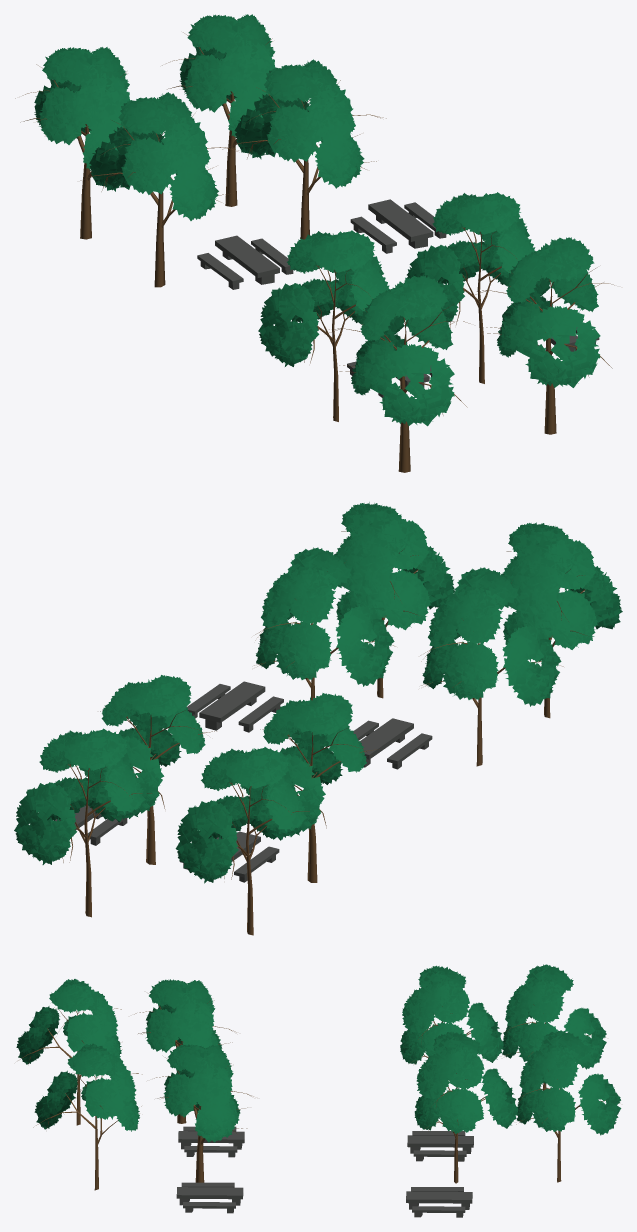
The model's file is SC_Benches_Trees_FIN.glb.
The picture shows the model from 3 angles, top to bottom: view 1: azimuth 30°, elevation 25°; view 2: azimuth 150°, elevation 25°; view 3: azimuth 270°, elevation 25°; orthographic projection. The views are drawn at different scales.
Visible parts, largest first — view 1: Leaves_1, Leaves_1.001, Leaves_1.006, Leaves_1.002, Leaves_1.004, Leaves_1.003, Leaves_1.005, Trunk_0.001, Cube.011, Cube.015, Trunk_0.004, Trunk_0 (+6 smaller); view 2: Leaves_1, Leaves_1.006, Leaves_1.001, Leaves_1.005, Leaves_1.003, Leaves_1.002, Leaves_1.004, Cube.002, Cube.007, Trunk_0.005, Trunk_0.003, Trunk_0.002 (+3 smaller); view 3: Leaves_1, Leaves_1.002, Leaves_1.003, Leaves_1.004, Leaves_1.005, Leaves_1.001, Leaves_1.006, Cube.011, Trunk_0.001, Cube.002, Cube.015, Cube.007 (+5 smaller).
Part boxes in pixels (x1=…): Leaves_1: x1=258, y1=192, x2=535, y2=366; Leaves_1.001: x1=497, y1=237, x2=600, y2=387; Leaves_1.006: x1=351, y1=275, x2=454, y2=426; Leaves_1.002: x1=234, y1=59, x2=364, y2=188; Leaves_1.004: x1=89, y1=92, x2=218, y2=220; Leaves_1.003: x1=179, y1=14, x2=275, y2=136; Leaves_1.005: x1=34, y1=47, x2=129, y2=171; Trunk_0.001: x1=328, y1=267, x2=614, y2=472; Cube.011: x1=368, y1=199, x2=433, y2=248; Cube.015: x1=215, y1=235, x2=279, y2=284; Trunk_0.004: x1=80, y1=114, x2=238, y2=287; Trunk_0: x1=450, y1=227, x2=516, y2=383; Leaves_1: x1=256, y1=547, x2=561, y2=706; Leaves_1.006: x1=501, y1=522, x2=622, y2=649; Leaves_1.001: x1=334, y1=502, x2=454, y2=630; Leaves_1.005: x1=175, y1=747, x2=307, y2=883; Leaves_1.003: x1=14, y1=728, x2=145, y2=864; Leaves_1.002: x1=101, y1=675, x2=205, y2=818; Leaves_1.004: x1=263, y1=693, x2=366, y2=836; Cube.002: x1=199, y1=681, x2=265, y2=730; Cube.007: x1=360, y1=718, x2=413, y2=767; Trunk_0.005: x1=218, y1=782, x2=309, y2=935; Trunk_0.003: x1=56, y1=764, x2=151, y2=917; Trunk_0.002: x1=100, y1=710, x2=216, y2=864; Leaves_1: x1=145, y1=979, x2=240, y2=1142; Leaves_1.002: x1=414, y1=1031, x2=518, y2=1133; Leaves_1.003: x1=517, y1=1030, x2=621, y2=1135; Leaves_1.004: x1=400, y1=965, x2=503, y2=1064; Leaves_1.005: x1=502, y1=964, x2=606, y2=1069; Leaves_1.001: x1=34, y1=1043, x2=139, y2=1131; Leaves_1.006: x1=16, y1=979, x2=121, y2=1064; Cube.011: x1=406, y1=1191, x2=472, y2=1209; Trunk_0.001: x1=18, y1=1007, x2=142, y2=1190; Cube.002: x1=176, y1=1187, x2=243, y2=1205; Cube.015: x1=407, y1=1135, x2=473, y2=1153; Cube.007: x1=178, y1=1131, x2=244, y2=1149.
Size of what is drawn, in the model's own units: 65.97 by 38.79 by 136.
